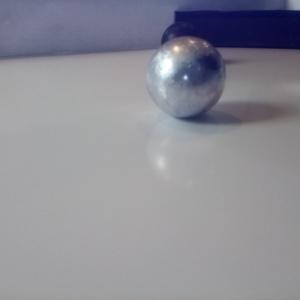zone: (175, 9, 300, 50)
